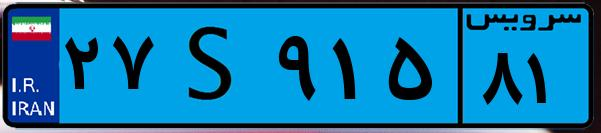1: (330, 28, 385, 110), (525, 38, 570, 115)
2: (57, 26, 110, 100)
5: (385, 28, 445, 110)
7: (110, 28, 158, 98)
8: (475, 38, 525, 113)
9: (270, 28, 330, 110)
S: (158, 12, 270, 120)
